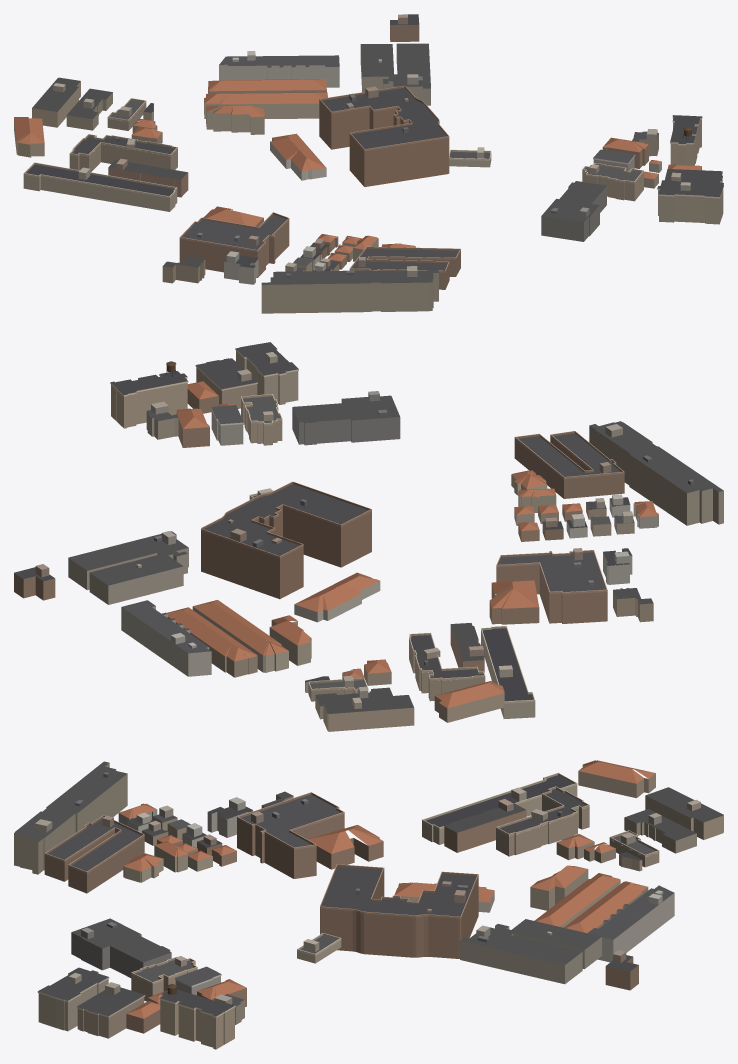
The model's file is -4_5.bld.glb.
3 renders of one model, top to bottom at view 1: azimuth 30°, elevation 25°; view 2: azimuth 150°, elevation 25°; view 3: azimuth 270°, elevation 25°, orthographic. The views are drawn at different scales.
Parts seen in each view (by area): view 1: -4_5; view 2: -4_5; view 3: -4_5.
Boxes of the visible parts, left/top/right/bottom form: -4_5: left=14, top=14, right=723, bottom=313; -4_5: left=14, top=342, right=723, bottom=731; -4_5: left=14, top=760, right=723, bottom=1049.
Size of the model in its own units: 280 by 38.81 by 291.
